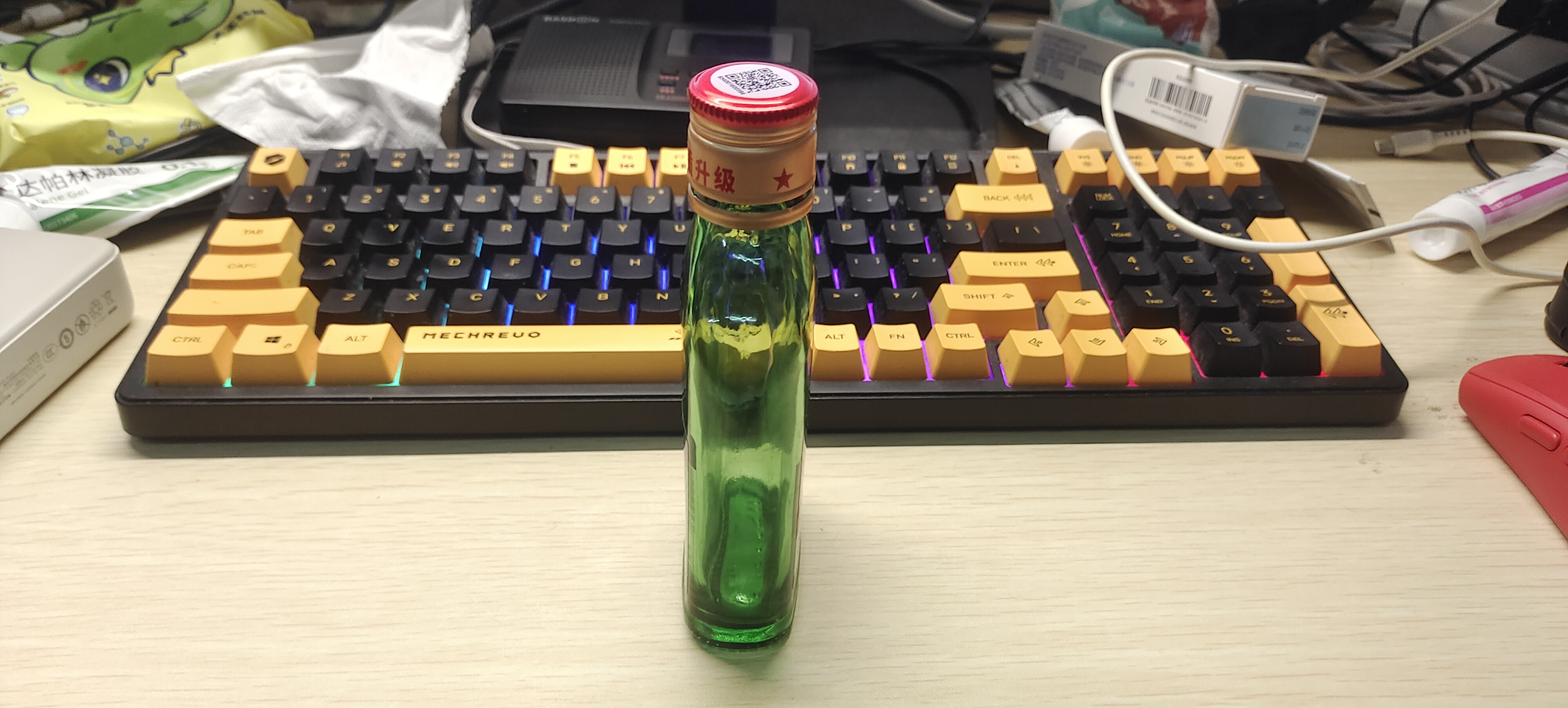redbull: (583, 55, 936, 708)
